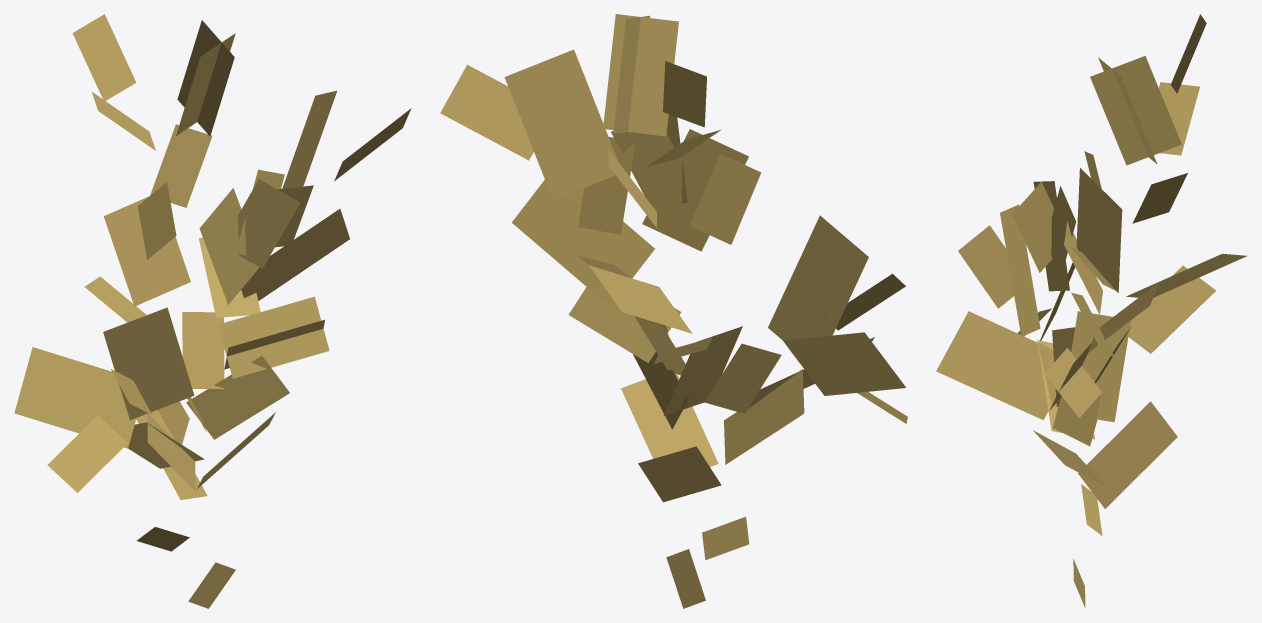
Rendered from cmc_quakingaspen_LOD_1.fbx.
3 views of the same model, side by side, from view 1: azimuth 30°, elevation 25°; view 2: azimuth 150°, elevation 25°; view 3: azimuth 270°, elevation 25° (orthographic). The views are drawn at different scales.
Visible parts, largest first — view 1: leaves_planes_rev, leaves_planes_fwd; view 2: leaves_planes_fwd, leaves_planes_rev; view 3: leaves_planes_fwd, leaves_planes_rev.
Part boxes in pixels (x1=…): leaves_planes_rev: x1=15, y1=14, x2=349, y2=608; leaves_planes_fwd: x1=14, y1=18, x2=411, y2=608; leaves_planes_fwd: x1=464, y1=14, x2=905, y2=608; leaves_planes_rev: x1=440, y1=14, x2=907, y2=608; leaves_planes_fwd: x1=936, y1=56, x2=1246, y2=598; leaves_planes_rev: x1=937, y1=14, x2=1215, y2=607.
Size of what is drawn, in the model's own units: 6.77 by 8.86 by 4.44.
